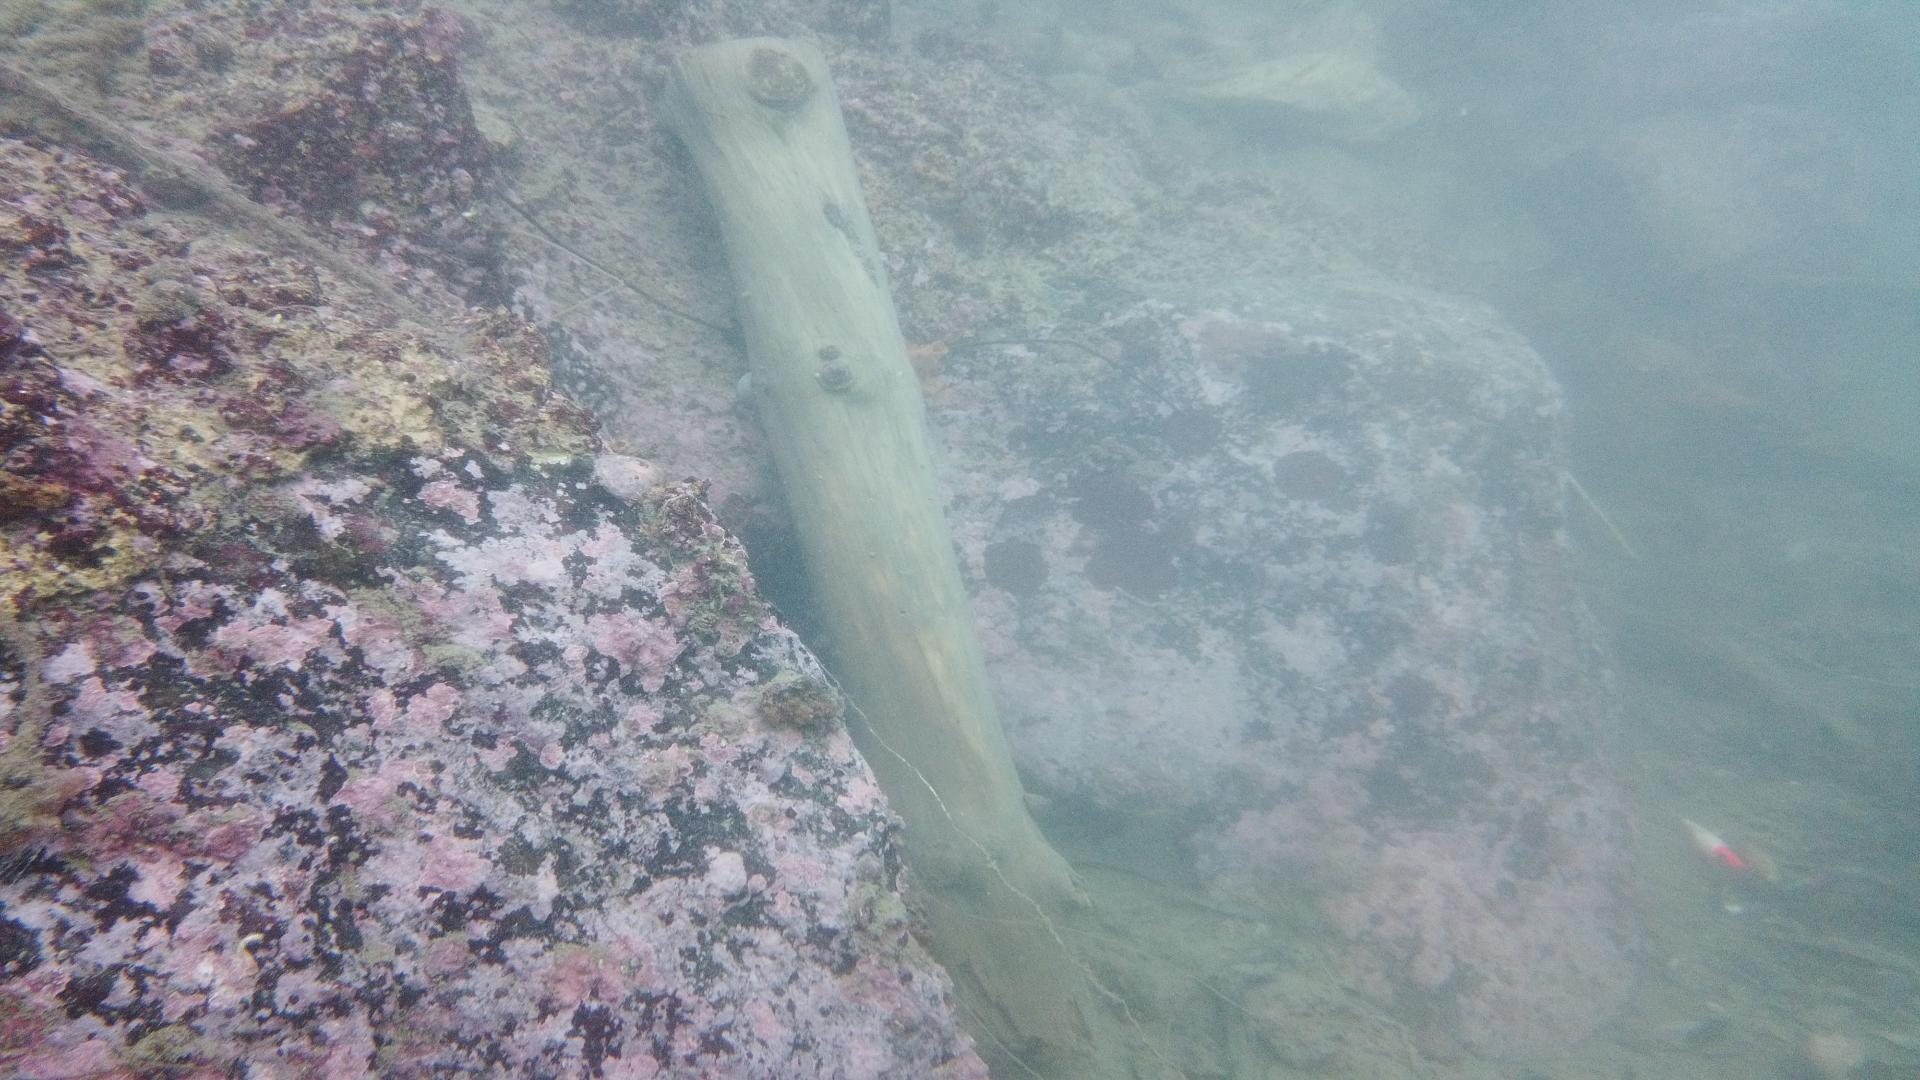rope: (0, 61, 393, 305)
wood: (659, 32, 1098, 1080)
